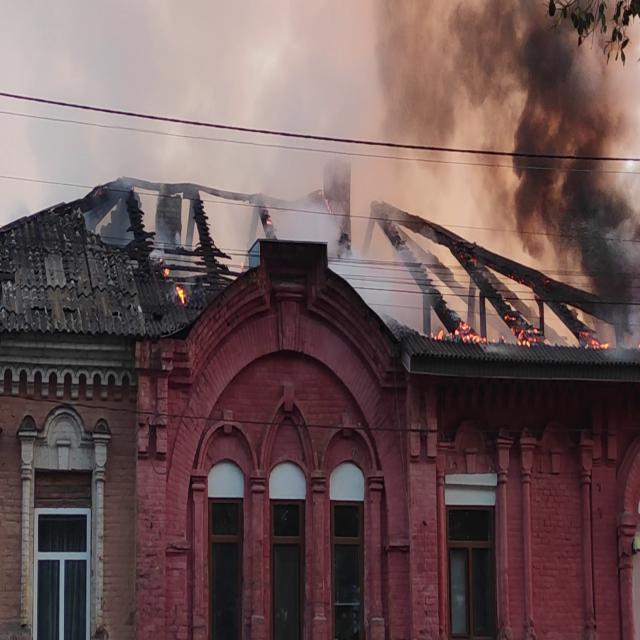fire: (578, 327, 614, 358)
smoke: (522, 19, 640, 306)
